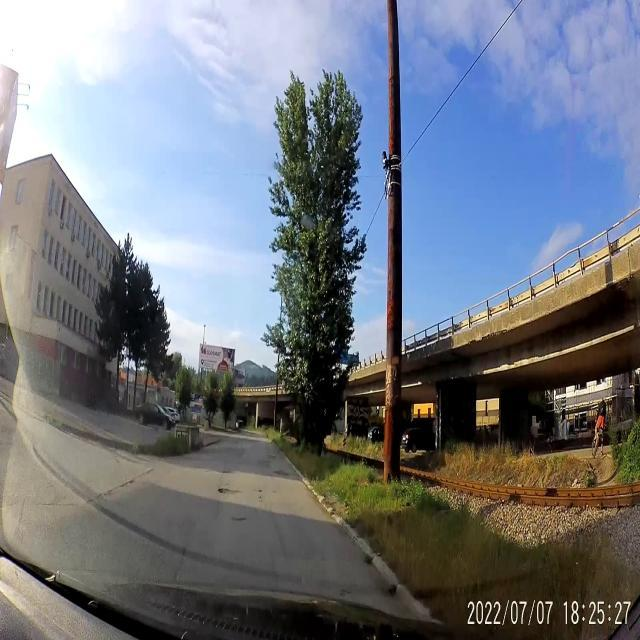Pothole: (216, 484, 243, 499), (231, 512, 248, 524), (219, 466, 236, 478), (272, 468, 290, 478), (266, 453, 276, 460), (254, 487, 264, 493)
